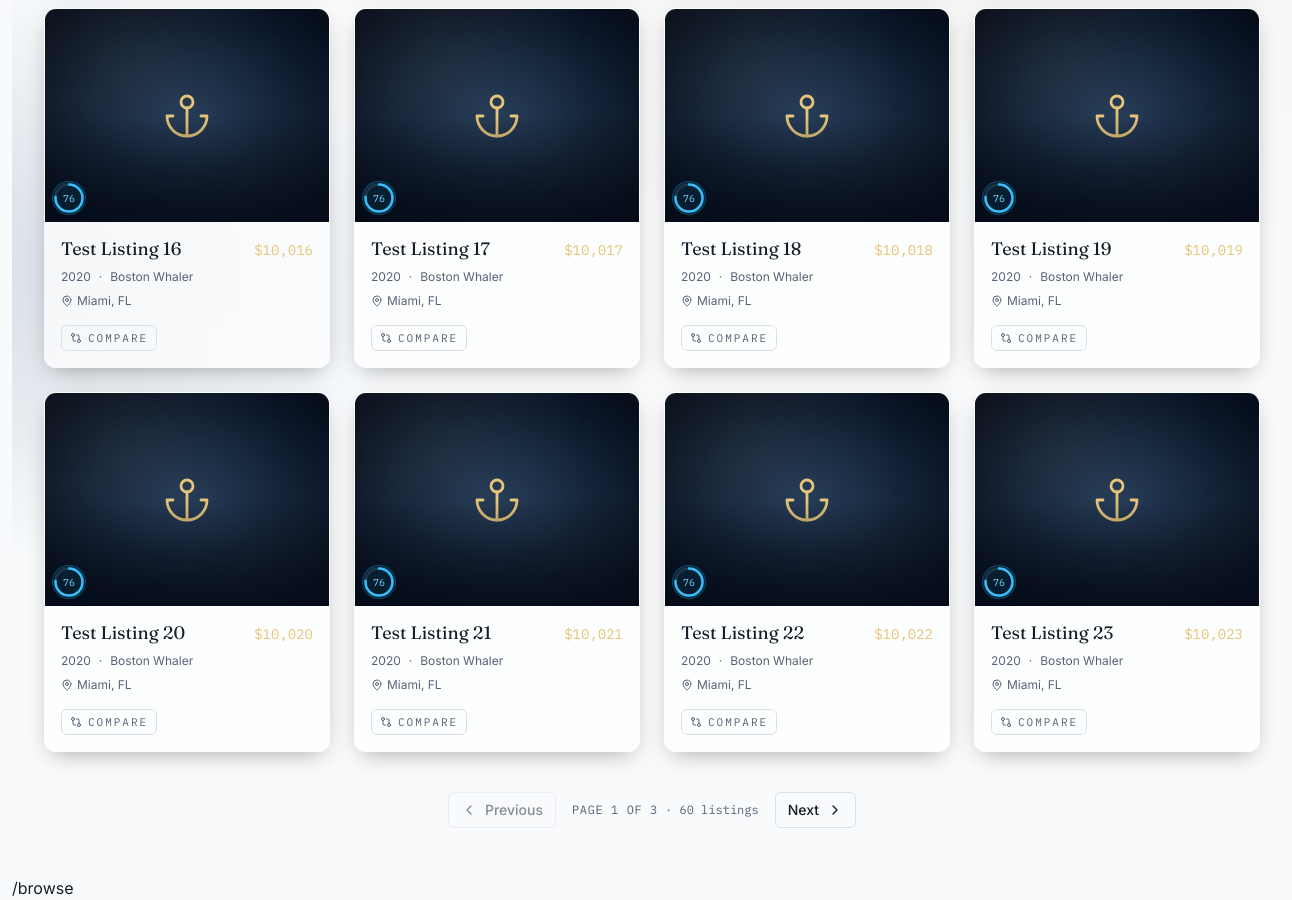
Scenario: BrowsePage pagination › advances pages with .range() offsets and syncs ?page= to the URL
(page scrolled)
Click the button with aria-label "Next page": (815, 810) [775,792,856,828]
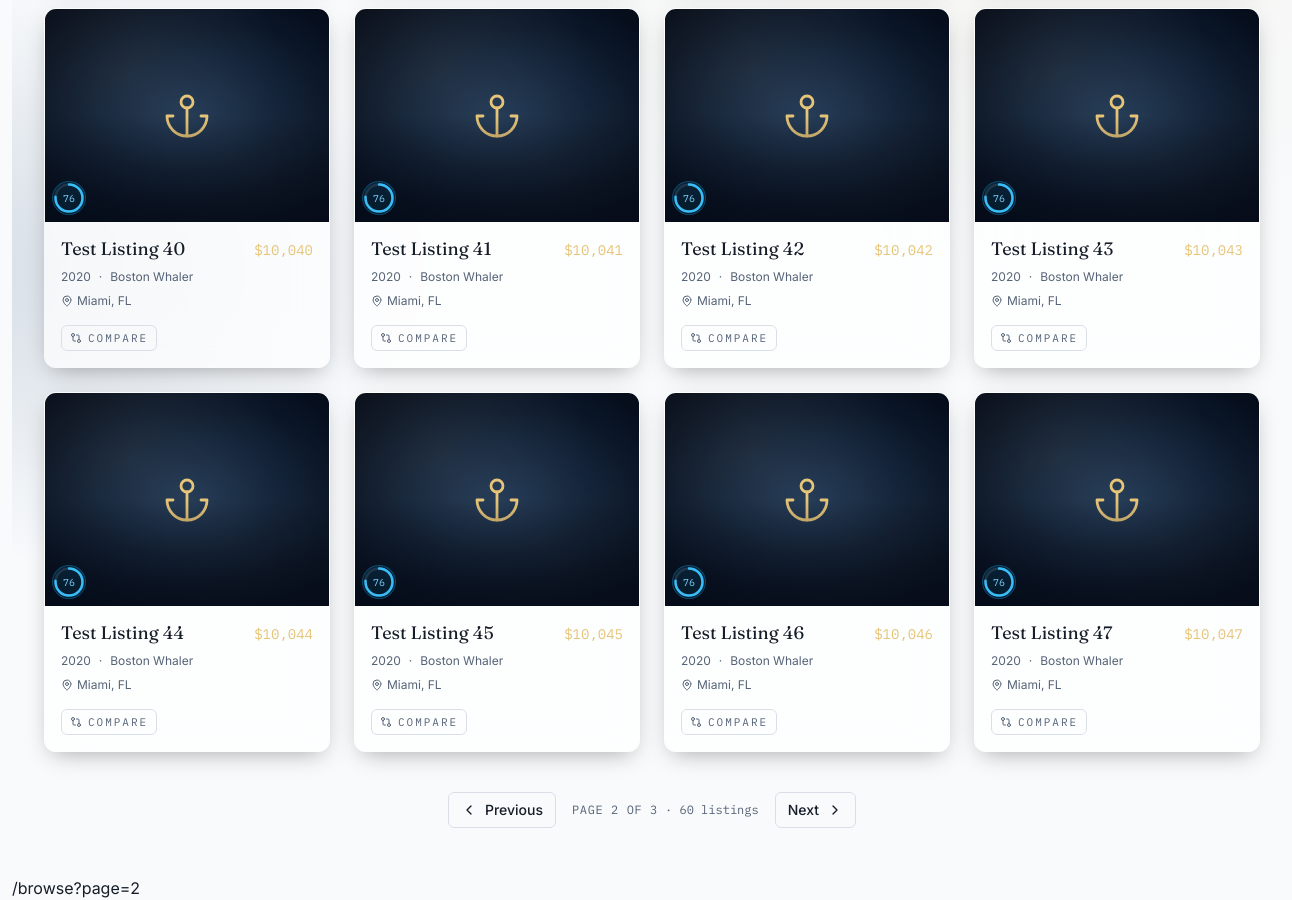
Expected: the text with test id "location" reads "/browse?page=2", [12,878,140,898]
